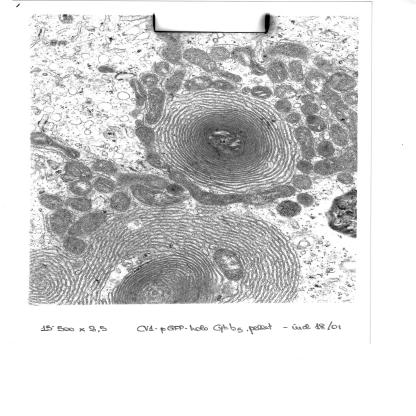mitochondria: (304, 70, 358, 140), (184, 48, 242, 82), (314, 143, 358, 175), (32, 131, 82, 158), (130, 184, 190, 206), (230, 185, 296, 205), (67, 211, 107, 237), (231, 47, 266, 76), (214, 249, 244, 280), (117, 172, 168, 190), (143, 87, 166, 124), (127, 78, 147, 117), (293, 126, 316, 159), (60, 161, 94, 181), (49, 210, 72, 236), (274, 42, 310, 58), (145, 151, 170, 174), (163, 68, 184, 94), (266, 60, 288, 84), (329, 72, 356, 91), (328, 124, 349, 146), (160, 45, 184, 64), (182, 75, 212, 90), (61, 237, 87, 254), (136, 126, 156, 148), (277, 201, 301, 217), (65, 197, 92, 211), (110, 192, 131, 210), (38, 194, 63, 209), (94, 176, 116, 193), (304, 115, 326, 132), (288, 60, 304, 83), (69, 180, 93, 195), (273, 85, 297, 99), (250, 85, 272, 100), (92, 160, 116, 173), (318, 140, 335, 158), (293, 174, 313, 189), (210, 48, 231, 61), (153, 62, 172, 76), (141, 74, 161, 87), (296, 193, 314, 207), (296, 160, 314, 174), (214, 80, 236, 91), (300, 103, 320, 115), (275, 99, 292, 112), (167, 184, 185, 196), (336, 172, 354, 184), (343, 92, 358, 106), (285, 113, 302, 124), (300, 93, 314, 103), (96, 66, 115, 73), (242, 86, 250, 94)
